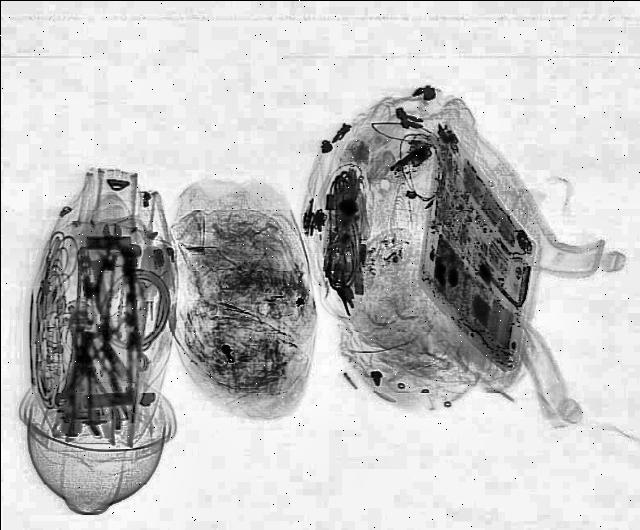Pliers: (70, 351, 124, 433)
